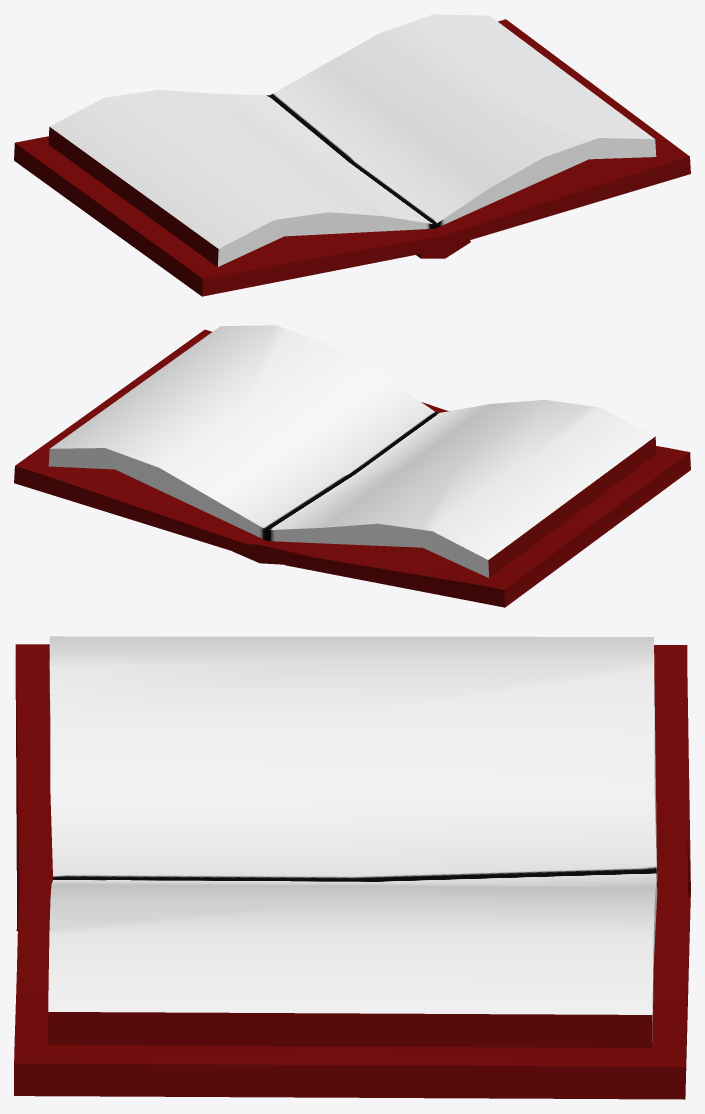
Rendered from Boek_Helemaal_Open_Export.fbx.
3 views of the same model, one above another, from view 1: azimuth 30°, elevation 25°; view 2: azimuth 150°, elevation 25°; view 3: azimuth 270°, elevation 25° (orthographic). The views are drawn at different scales.
Visible parts, largest first — view 1: pCube14; view 2: pCube14; view 3: pCube14.
Part boxes in pixels (x1,y1,x2,y2): pCube14: [14, 14, 690, 296]; pCube14: [14, 325, 690, 607]; pCube14: [14, 636, 690, 1099].
Size of the model in its own units: 2.13 by 0.307 by 1.41.
